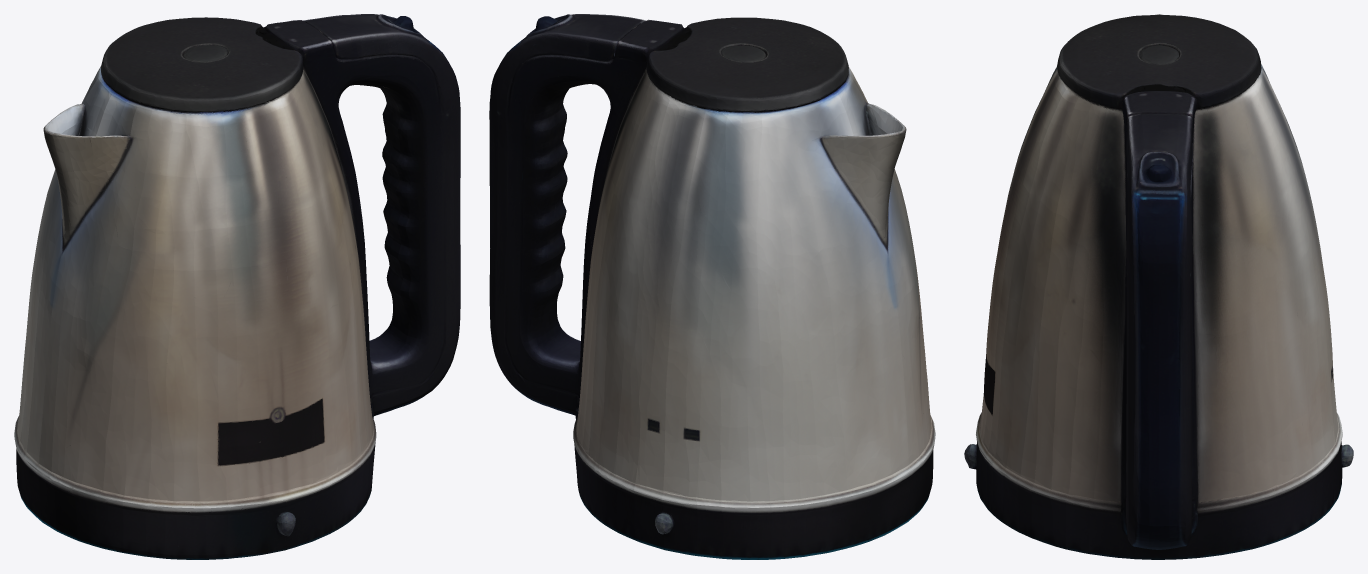
The model's file is chaleira.glb.
3 renders of one model, left to right at view 1: azimuth 30°, elevation 25°; view 2: azimuth 150°, elevation 25°; view 3: azimuth 270°, elevation 25°, orthographic.
Parts seen in each view (by area): view 1: world; view 2: world; view 3: world.
Boxes of the visible parts, x1,y1,x2,y2 form: world: [14, 14, 460, 559]; world: [489, 14, 935, 559]; world: [964, 14, 1353, 559].
Bounding box in the file's own units: 0.9978 × 0.9868 × 0.7944.
Materials: 1 (1 with a texture image).
